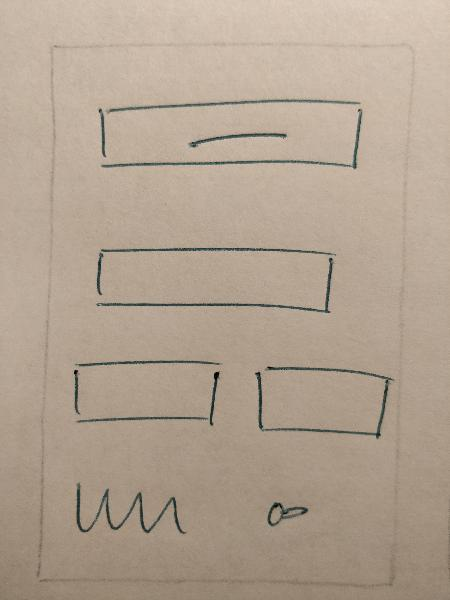button: (88, 94, 369, 176)
switch: (249, 487, 316, 539)
text: (64, 468, 194, 556)
text_input: (86, 236, 342, 326), (243, 353, 398, 448), (67, 344, 226, 433)
